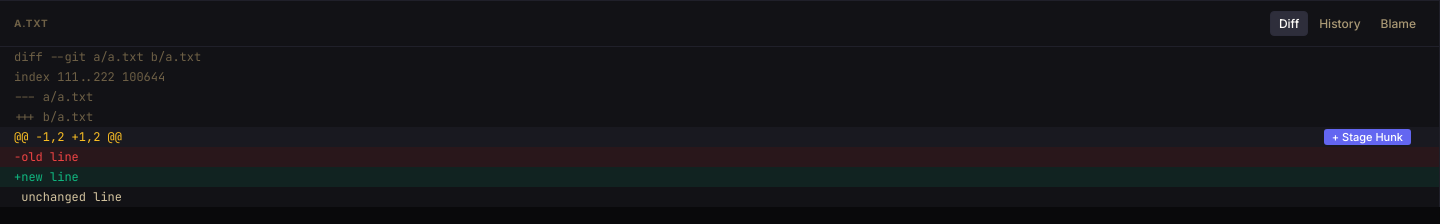
Test: DiffViewer › tabs › loads file history on demand
Expected: the text "+new line" is shown, [14,169,79,185]
Click the button "History" at (1340, 24), box [1310,11,1370,36]
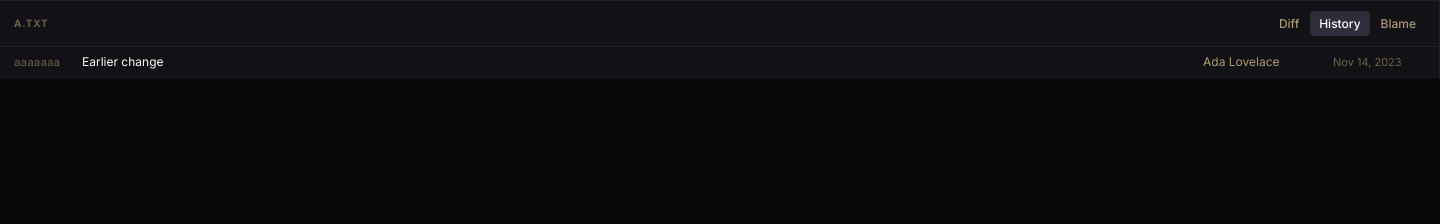
Expected: the text "Earlier change" is shown, [82,54,164,69]
